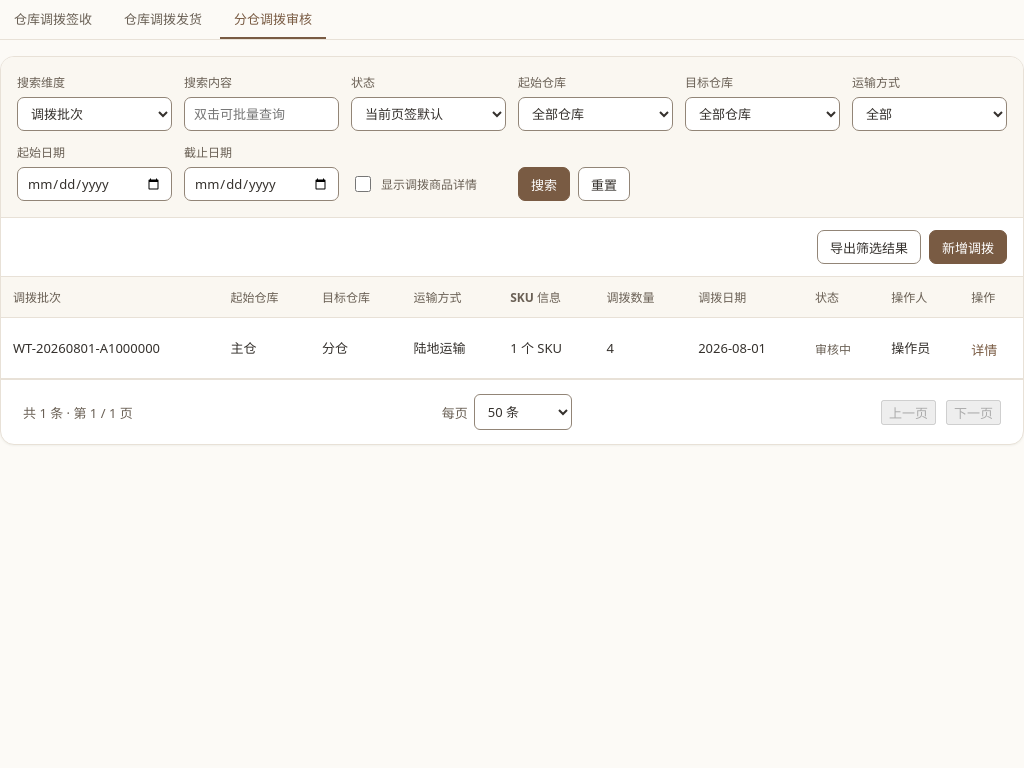
WarehouseTransferPage › shows the concrete inventory conflict when shipment cannot continue
The width and height of the screenshot is (1024, 768).
Expected: the text "WT-20260801-A1000000" is shown, [1,318,218,378]
Click the button "详情" at (984, 350), box [971,332,997,368]
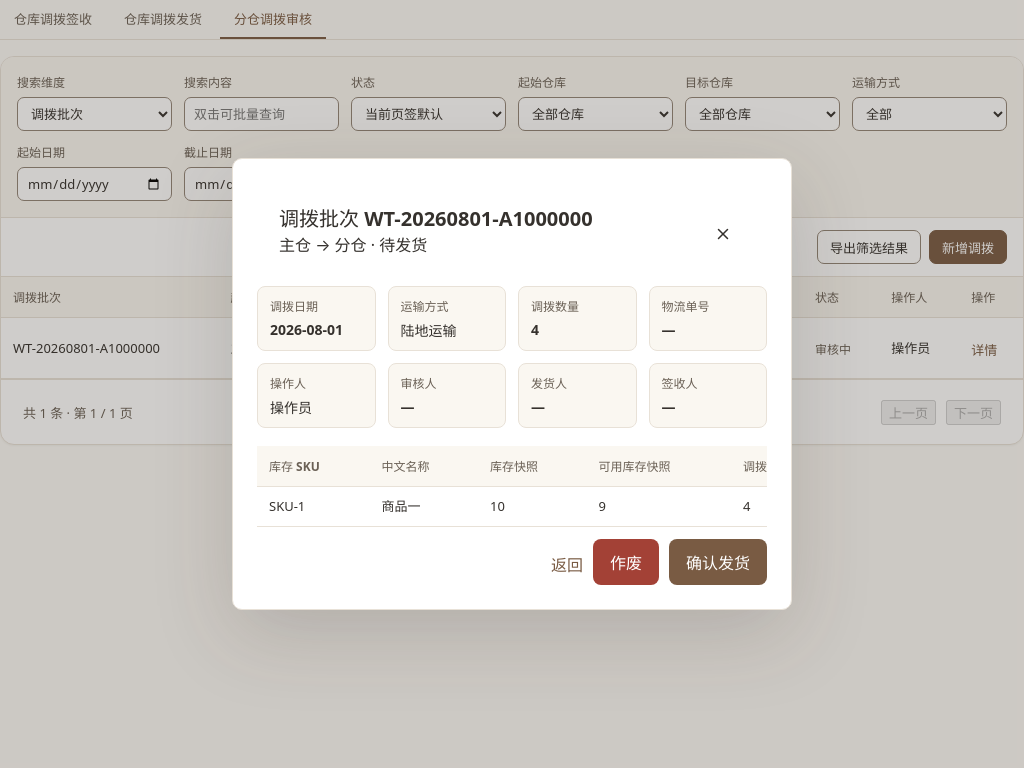
Click the button "确认发货" at (718, 562), box [669,539,767,585]
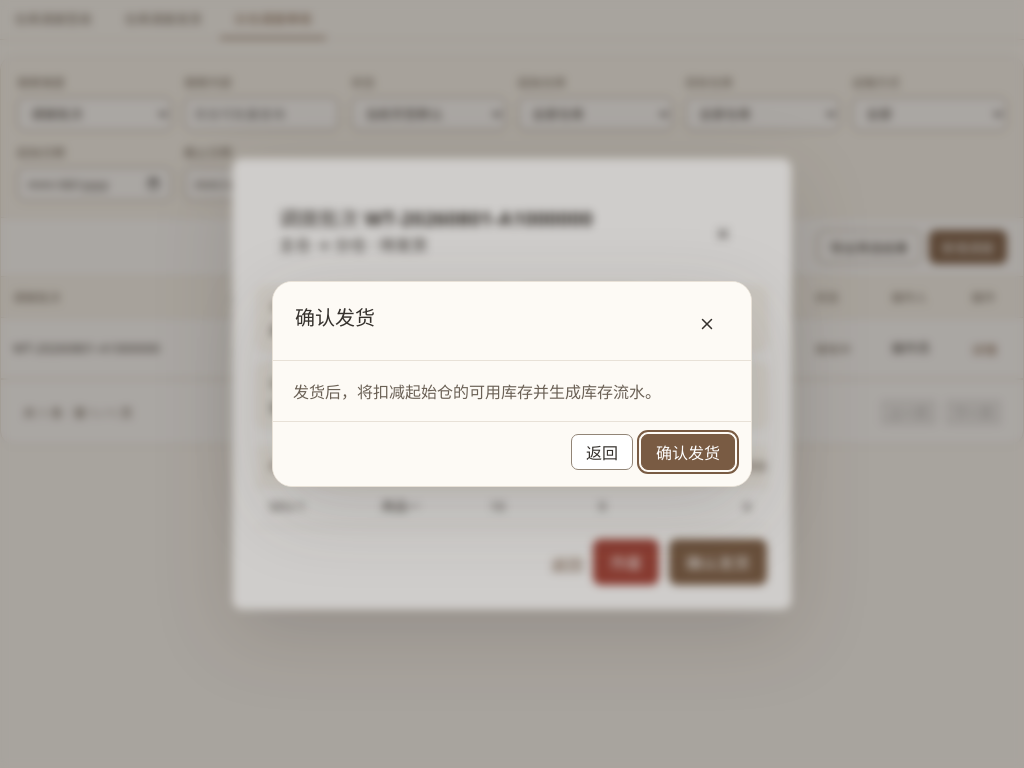
Click the button "确认发货" at (688, 452), box [641,434,735,470]
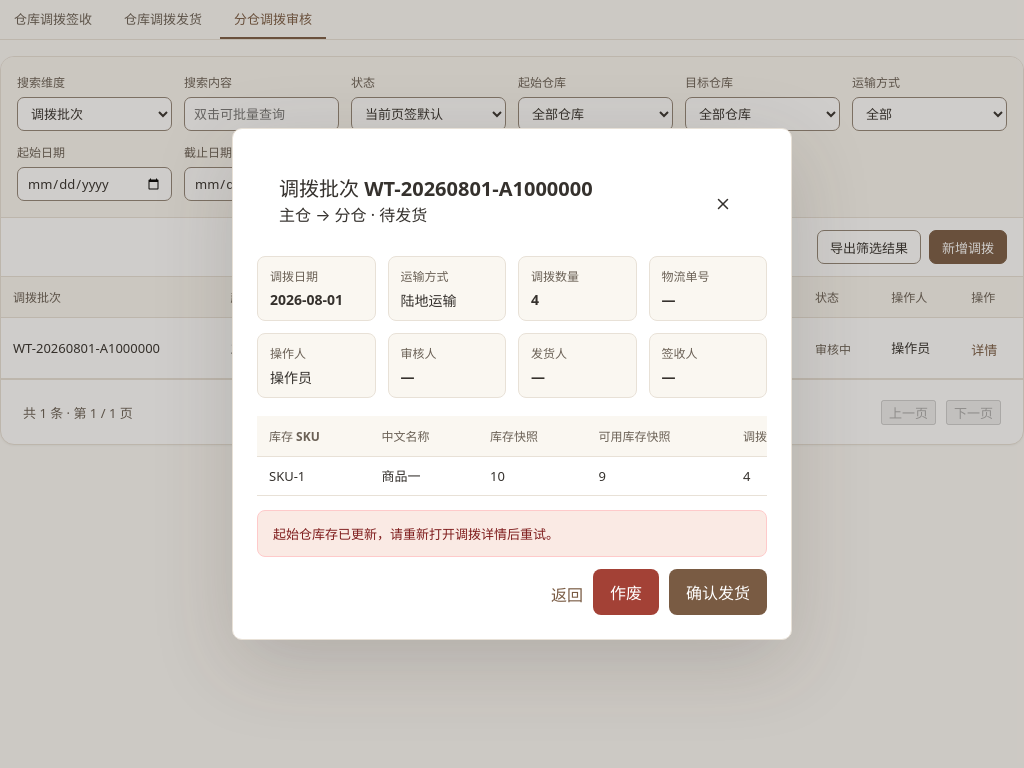
Now the message reads "起始仓库存已更新，请重新打开调拨详情后重试。", box [273,525,559,543]
